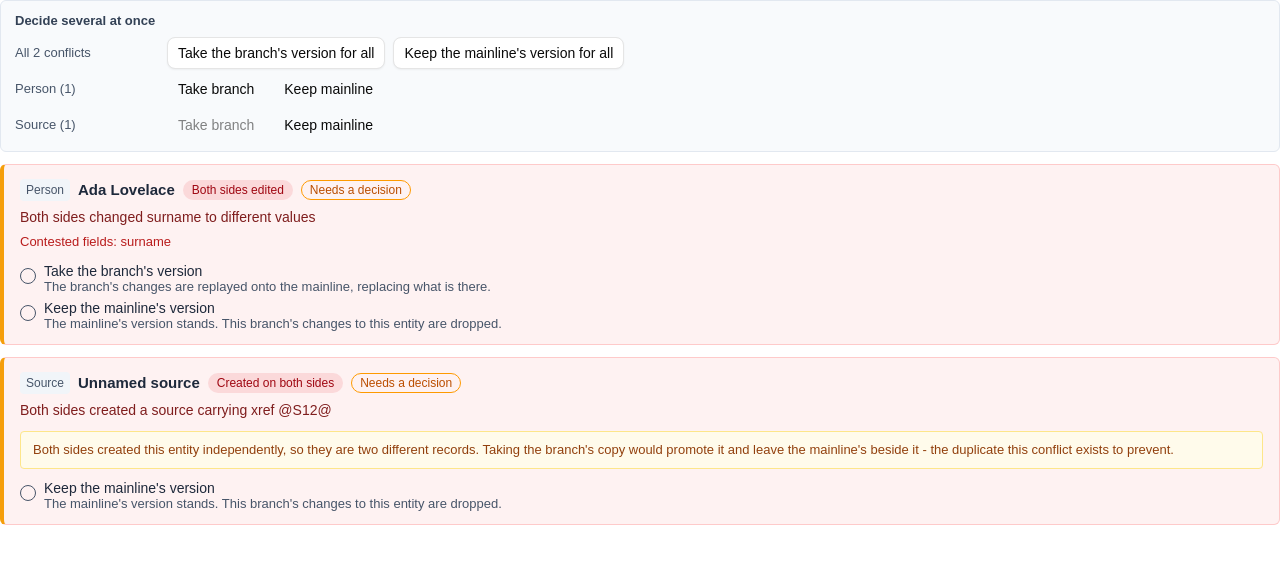
Test: MergeConflictResolver › bulk resolution › keeps the mainline's version for all
This screenshot has width=1280, height=567.
Click the button "Keep the mainline's version for all" at (509, 52), box left=393, top=36, right=624, bottom=68
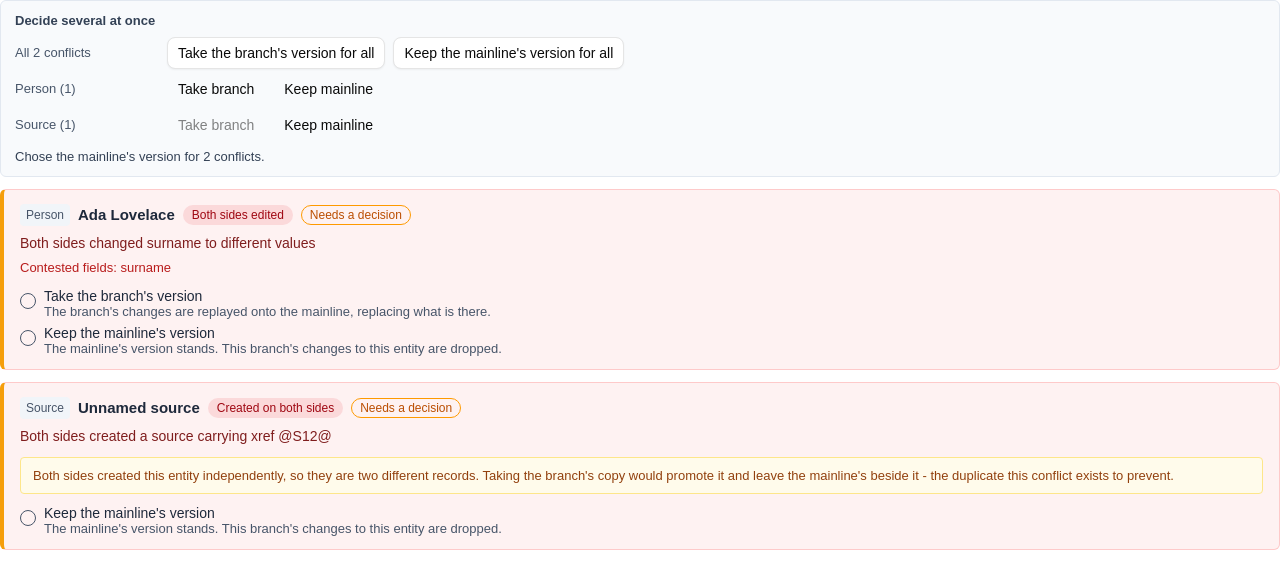
Expected: the message reads "Chose the mainline's version for 2 conflicts.", left=15, top=148, right=265, bottom=164
